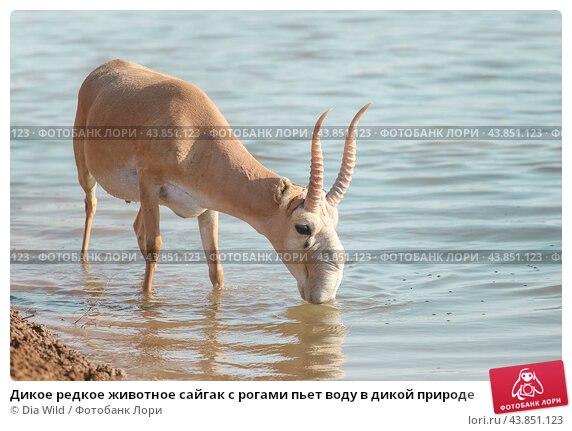saiga: (74, 58, 372, 324)
